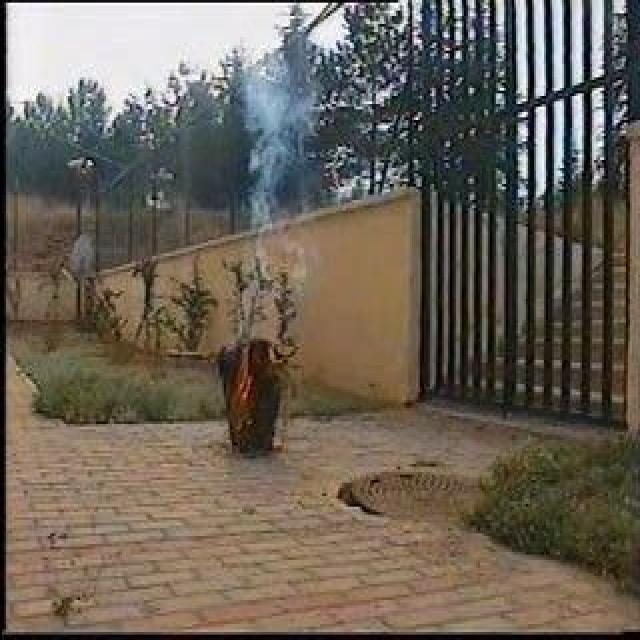fire: (238, 346, 256, 410)
smoke: (240, 88, 306, 221)
